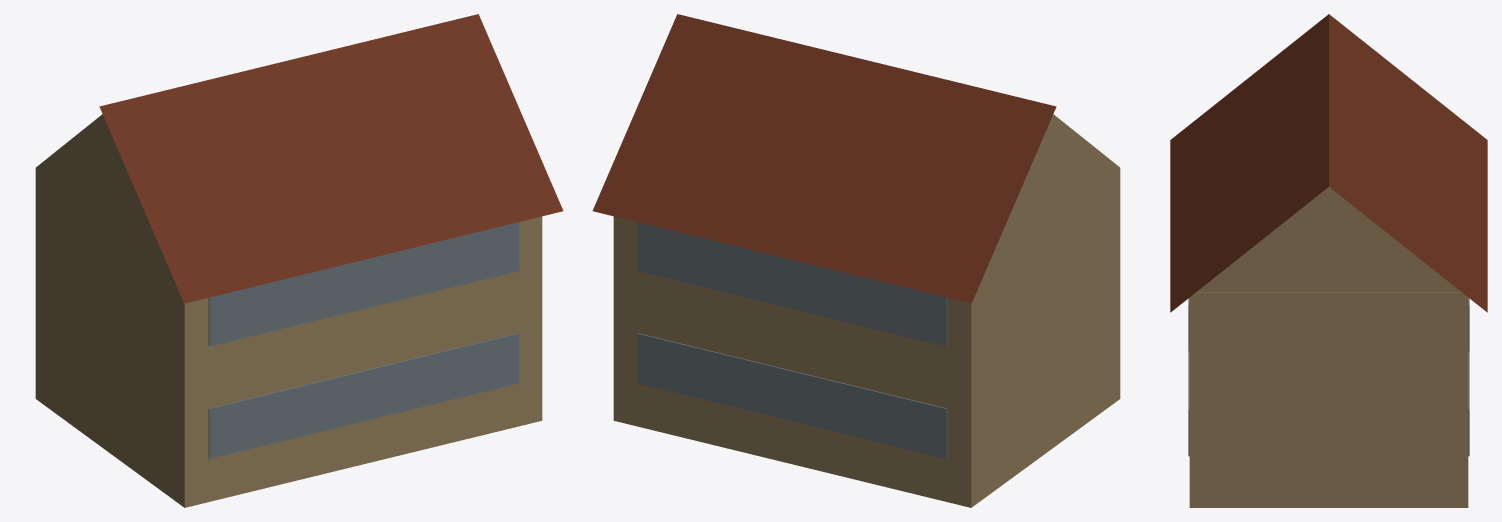
Rendered from cottage-stone.tone-v1.lod2.glb.
3 views of the same model, side by side, from view 1: azimuth 30°, elevation 25°; view 2: azimuth 150°, elevation 25°; view 3: azimuth 270°, elevation 25° (orthographic). The views are drawn at different scales.
Visible parts, largest first — view 1: cottage-stone; view 2: cottage-stone; view 3: cottage-stone.
Boxes of the visible parts, <box> form: cottage-stone: <box>35,14,563,507</box>; cottage-stone: <box>592,14,1120,507</box>; cottage-stone: <box>1170,14,1487,507</box>.
Bounding box in the file's own units: 9.54 × 8.4 × 7.4.
